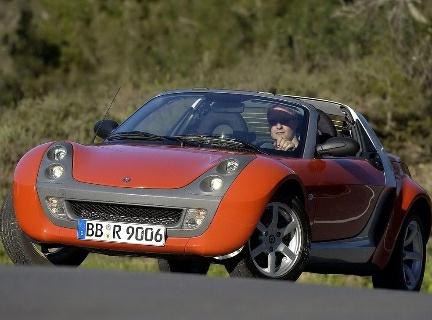smart-roadster: (13, 90, 426, 277)
